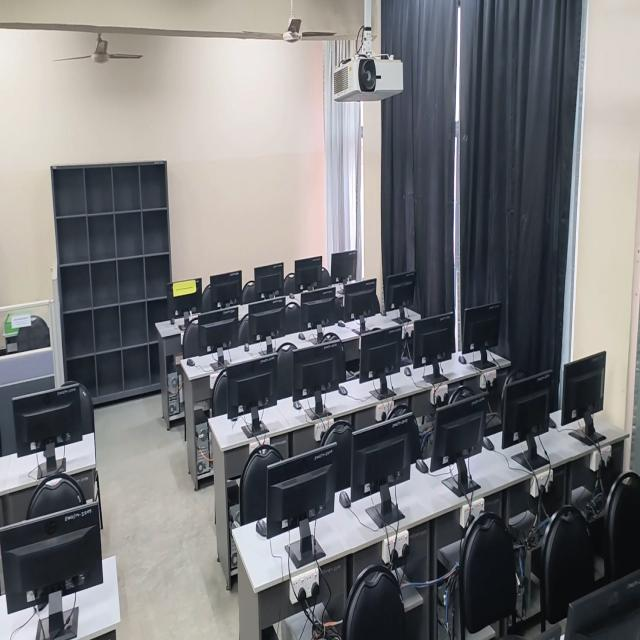Chair: (458, 515, 512, 640), (340, 564, 405, 640), (542, 502, 594, 594), (604, 471, 640, 562), (28, 467, 81, 513), (238, 440, 266, 518), (278, 342, 292, 392), (211, 368, 225, 417), (183, 320, 200, 358), (285, 298, 299, 332), (326, 422, 355, 438), (243, 282, 254, 305), (283, 271, 293, 294), (240, 314, 247, 344)
Cpu: (194, 409, 209, 477), (229, 482, 238, 570), (167, 362, 181, 414)
Monitor: (0, 506, 100, 640), (268, 447, 334, 565), (351, 417, 408, 531), (434, 398, 486, 496), (562, 575, 640, 640), (504, 372, 550, 472), (16, 389, 78, 460), (560, 353, 604, 436), (228, 356, 277, 420), (414, 312, 452, 386), (295, 342, 341, 400), (464, 306, 502, 373), (356, 336, 401, 381), (202, 307, 240, 358), (250, 297, 284, 345), (301, 286, 336, 332), (347, 279, 377, 329), (388, 274, 417, 322), (211, 268, 242, 312), (170, 282, 202, 313), (293, 256, 323, 288), (258, 262, 284, 298), (331, 252, 358, 282)
Mouse: (255, 515, 267, 541), (481, 435, 499, 452), (339, 490, 353, 511), (414, 458, 428, 477), (336, 386, 352, 396), (403, 365, 413, 379), (457, 354, 467, 366), (292, 402, 303, 412), (297, 330, 306, 340)
Projector: (330, 49, 406, 119)
